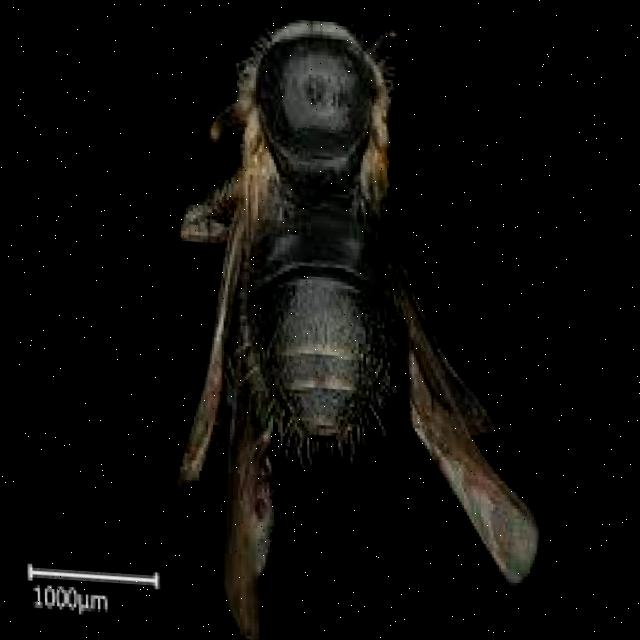Braunsapis: (152, 8, 543, 640)
